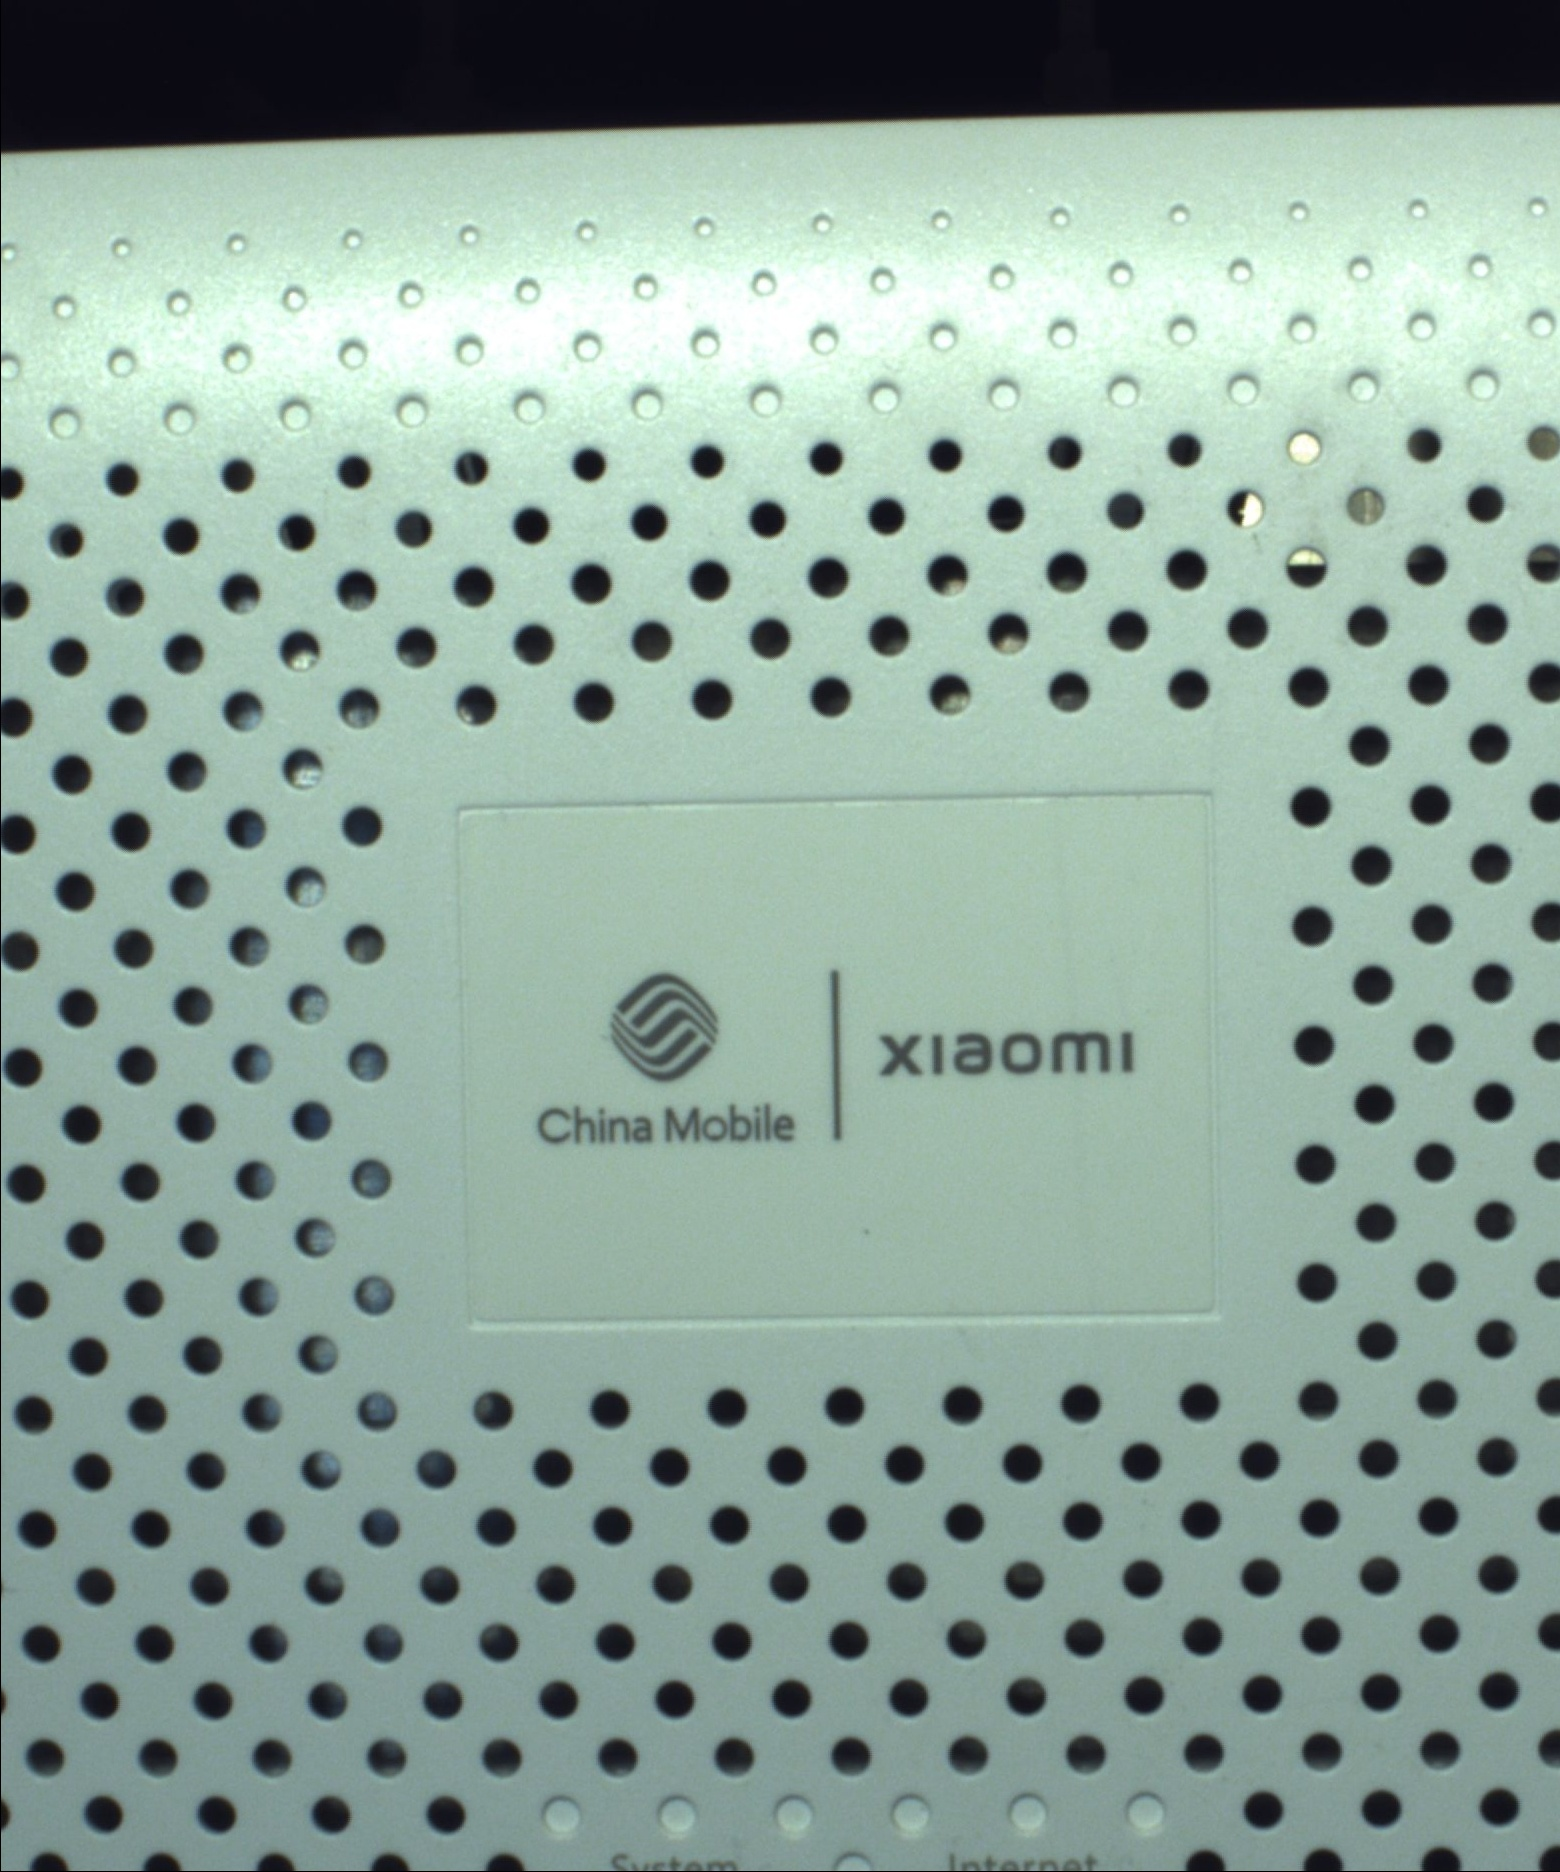MAD_ChinaMobile: (512, 955, 1146, 1188)
